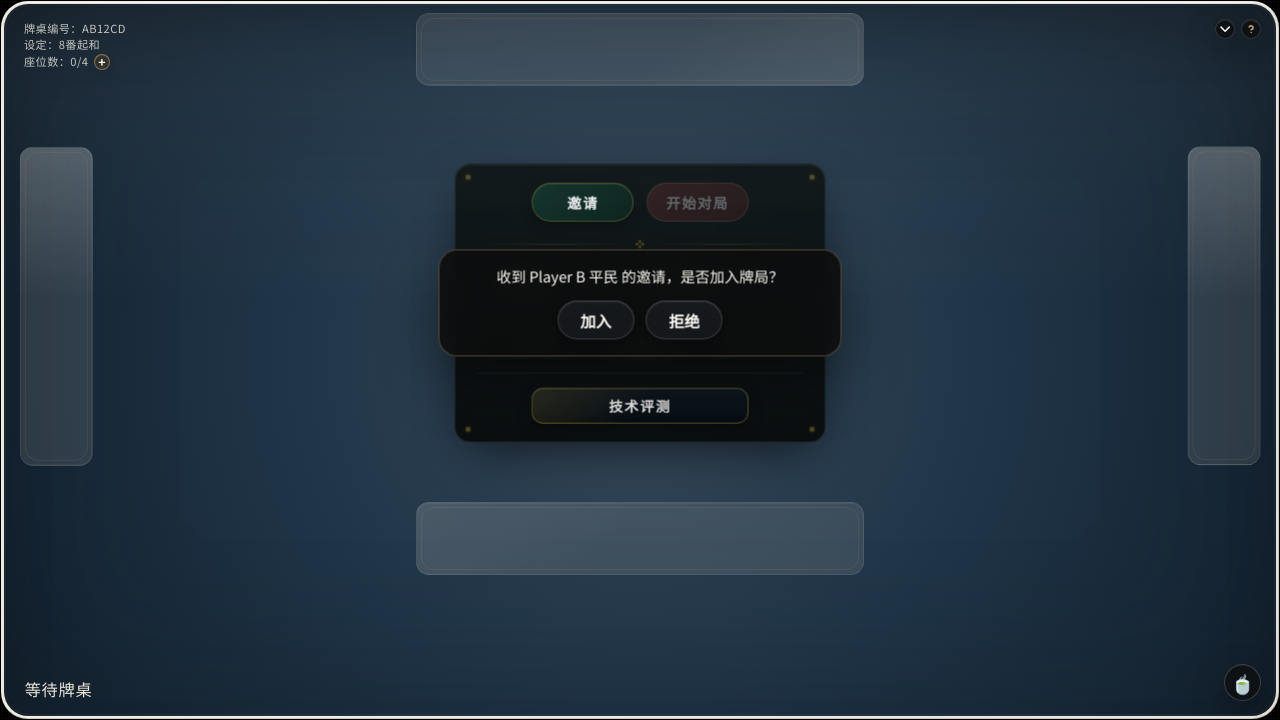
Test: App › lets users reject a pending table invite
Step 1. Click the button "拒绝" → [684, 320], box [645,301,723,340]
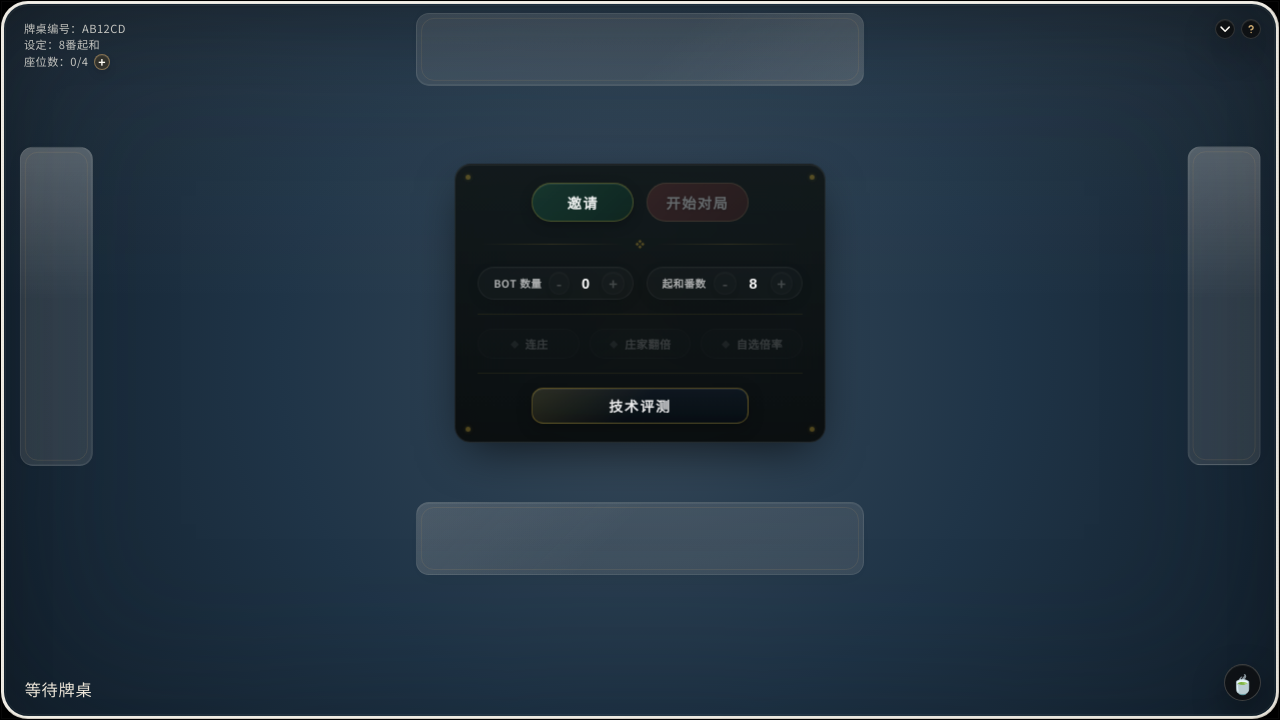
Now the dialog "收到牌局邀请" is gone
